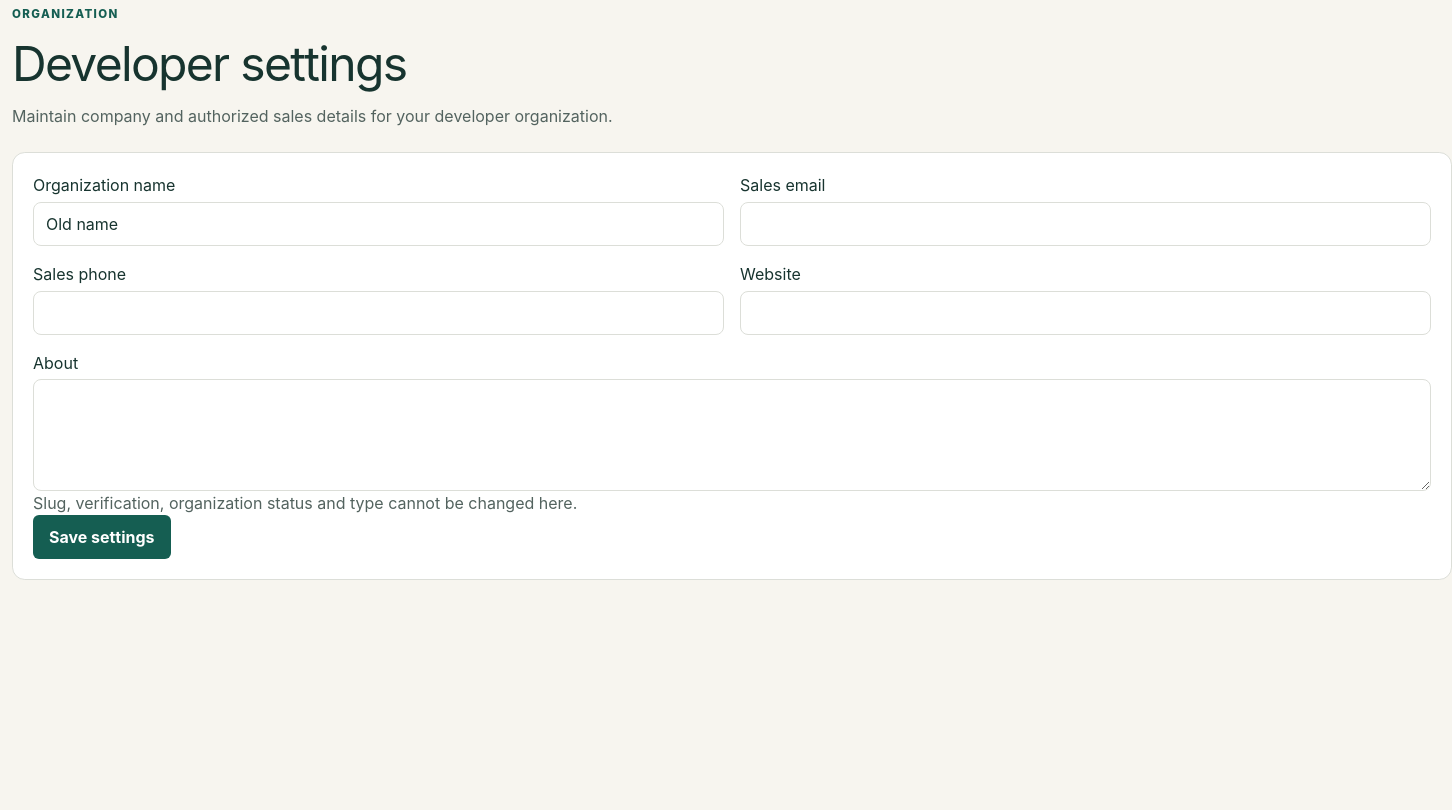
Scenario: DeveloperSettingsScreen › reloads and remounts latest server values after a conflict
The width and height of the screenshot is (1452, 810).
Replace the text in the field labelled "Organization name" with "My edit" at (378, 224), box [33, 202, 724, 246]
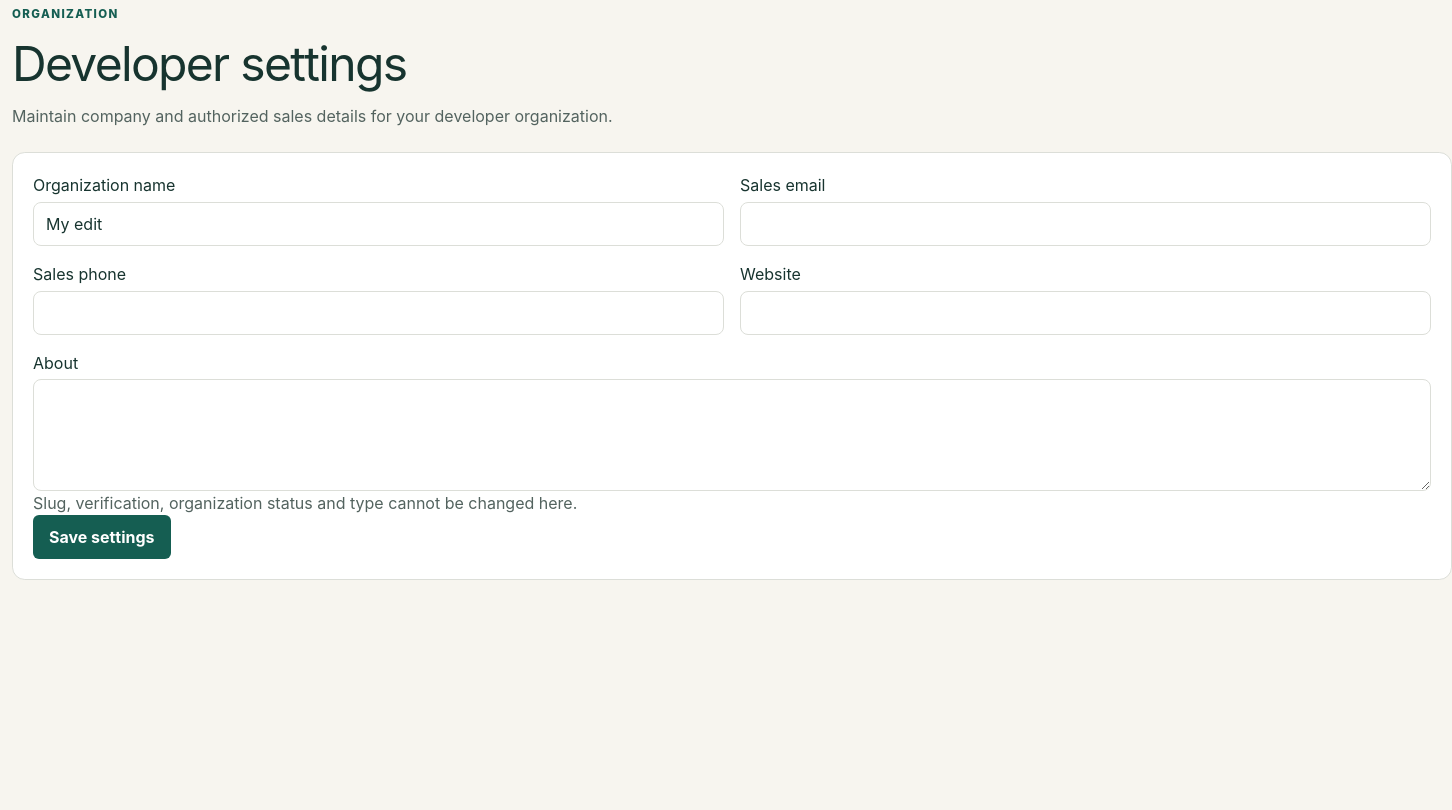
Click the button "Save settings" at (102, 537), box [33, 515, 170, 559]
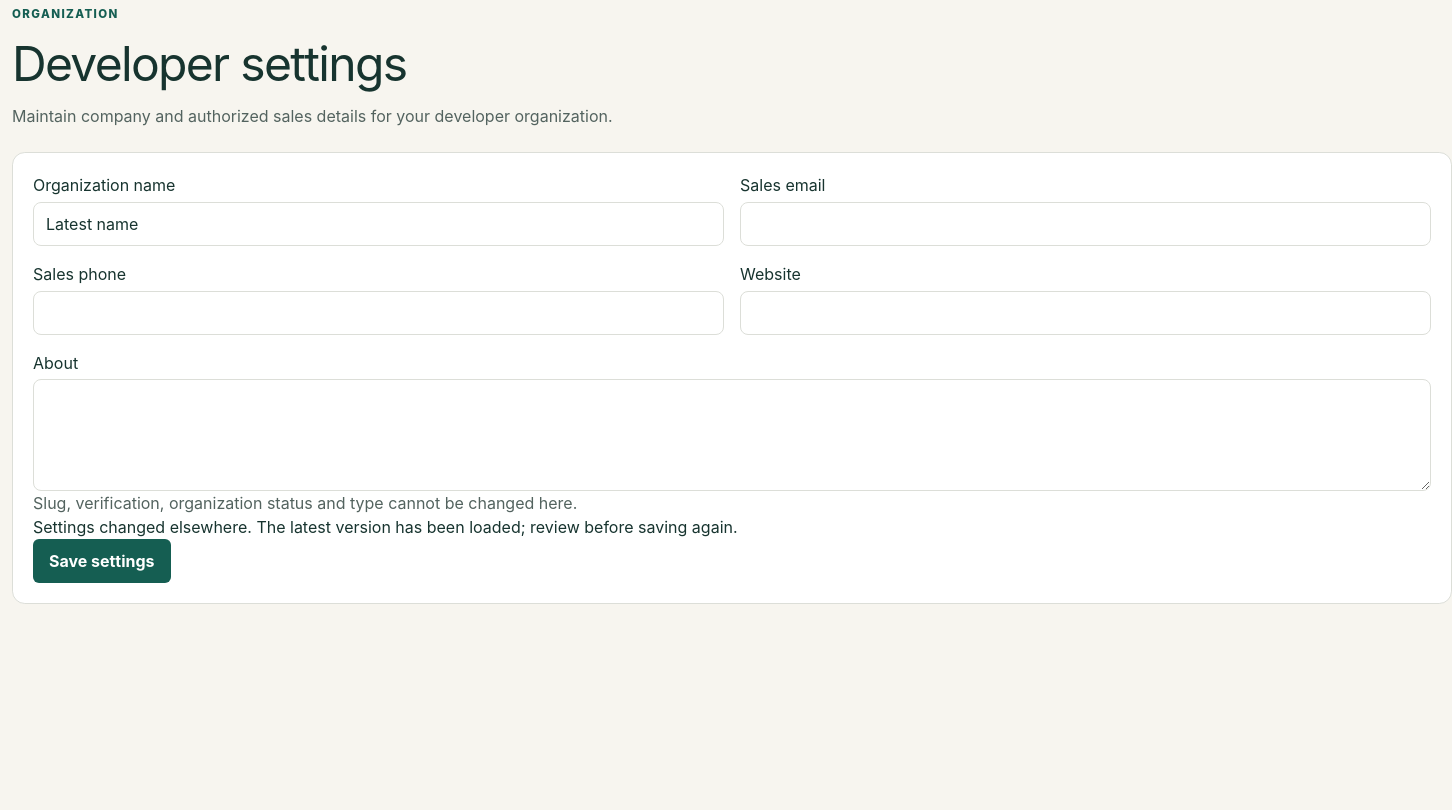
Now the field labelled "Organization name" holds "Latest name", box [33, 202, 724, 246]
